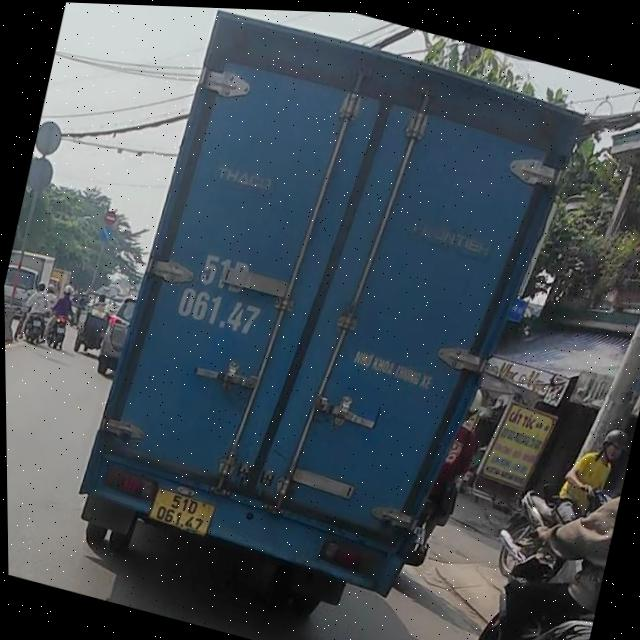car: (44, 2, 598, 640)
motorcycle: (14, 302, 47, 346), (43, 314, 75, 352)
plate: (136, 476, 227, 550)
